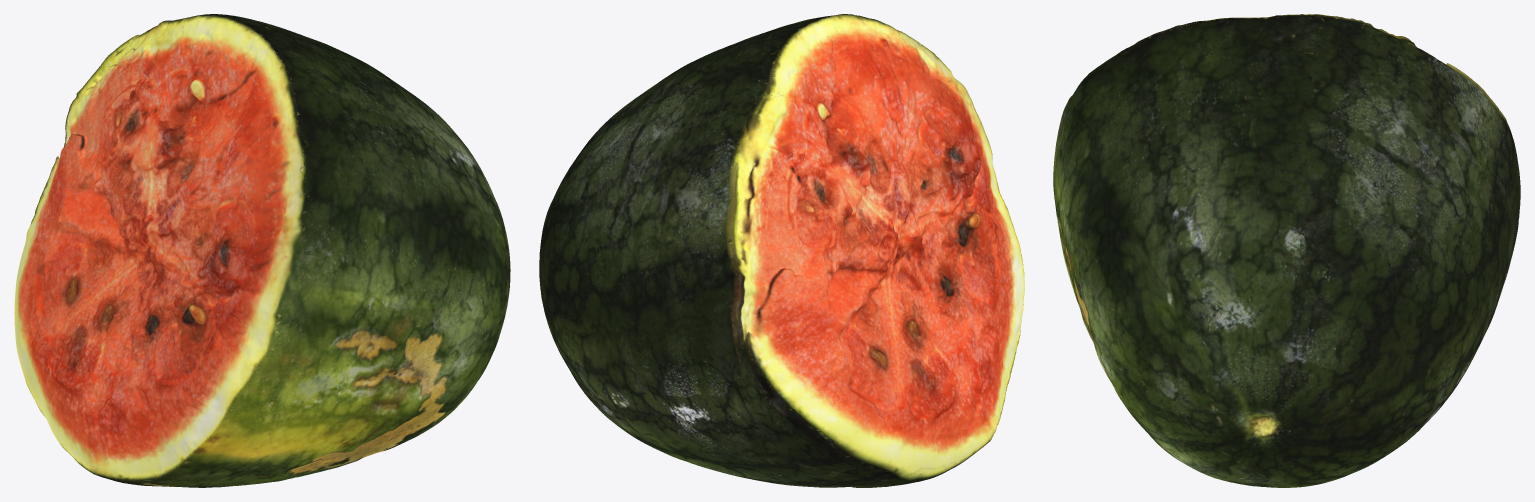
The model's file is watermelon.glb.
The picture shows the model from 3 angles, left to right: view 1: azimuth 30°, elevation 25°; view 2: azimuth 150°, elevation 25°; view 3: azimuth 270°, elevation 25°; orthographic projection. The views are drawn at different scales.
Size of the model in its own units: 147 by 149 by 148.
Materials: 1 (1 with a texture image).
